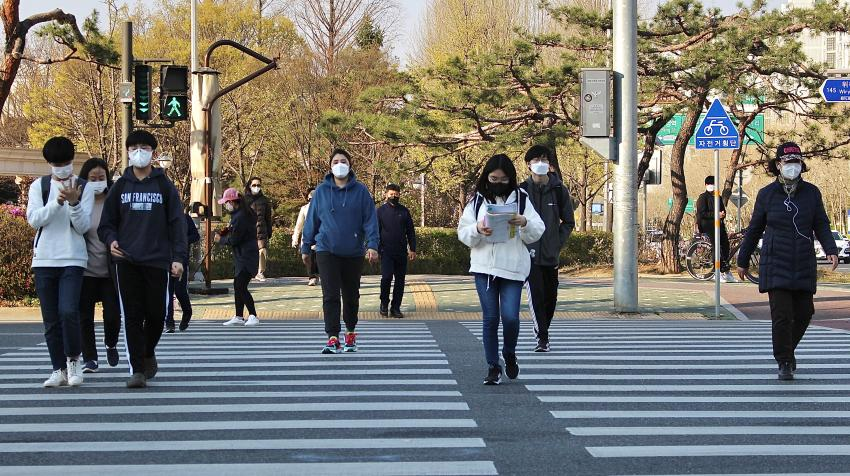with_mask: (129, 134, 151, 167), (48, 149, 72, 179), (779, 145, 799, 177), (487, 166, 509, 194), (87, 166, 105, 198), (330, 153, 349, 174), (219, 195, 240, 212), (534, 150, 546, 175), (386, 188, 400, 205), (251, 174, 261, 194), (704, 179, 714, 193)
